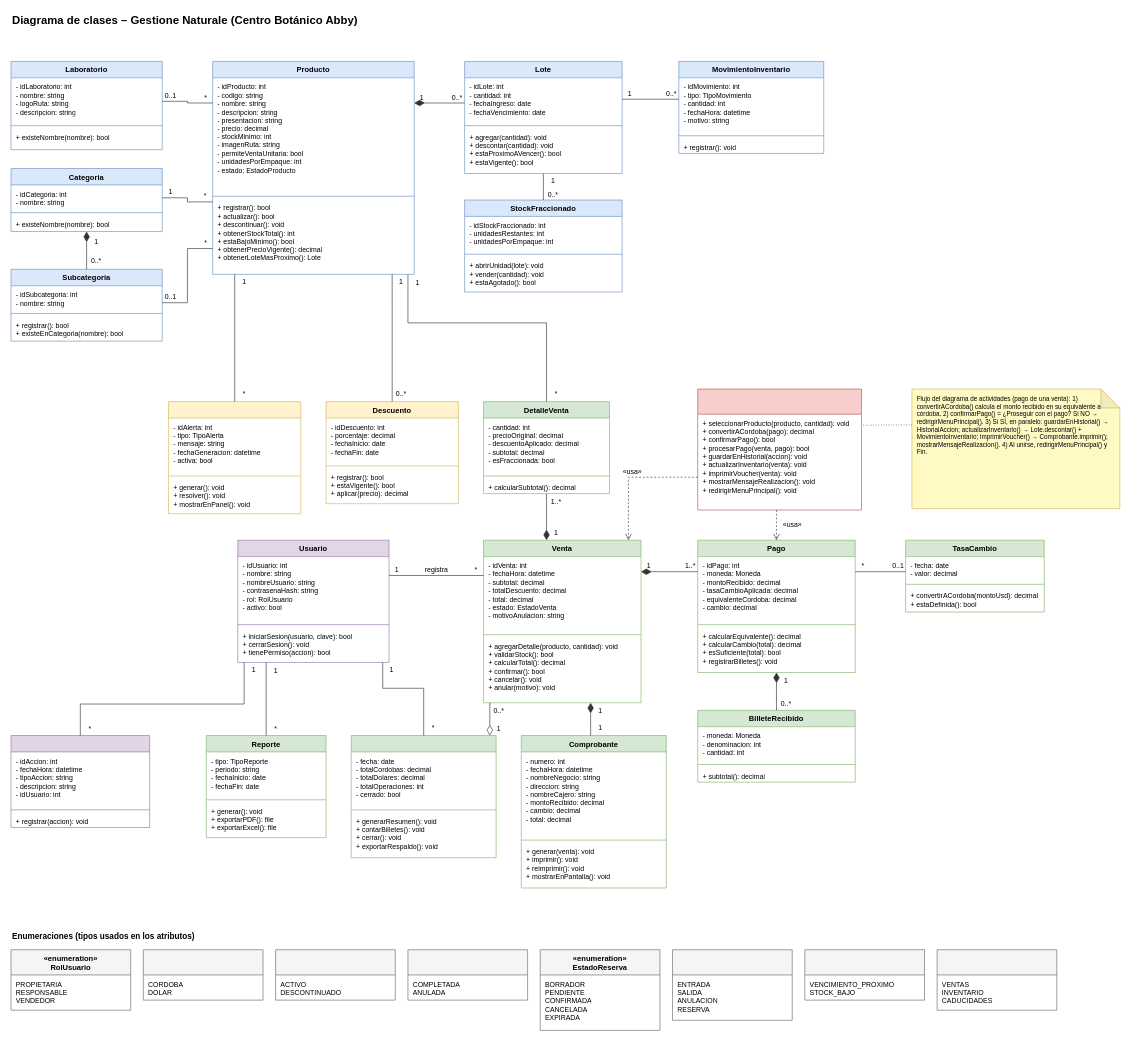
This 1131x1043 diagram has some shape labels left out. The shapes that lost their labels are listed below. From the top down, each one's box as (x1, y1, x2, y2) in pixels, then its label:
(168, 401, 301, 514): AlertaInventario
(697, 388, 862, 510): «service» ServicioVentas
(10, 735, 150, 828): HistorialAccion
(351, 735, 496, 858): CierreCaja
(143, 949, 263, 1000): «enumeration» Moneda
(275, 949, 395, 1000): «enumeration» EstadoProducto
(407, 949, 528, 1000): «enumeration» EstadoVenta
(672, 949, 792, 1020): «enumeration» TipoMovimiento
(804, 949, 925, 1000): «enumeration» TipoAlerta
(936, 949, 1057, 1010): «enumeration» TipoReporte
